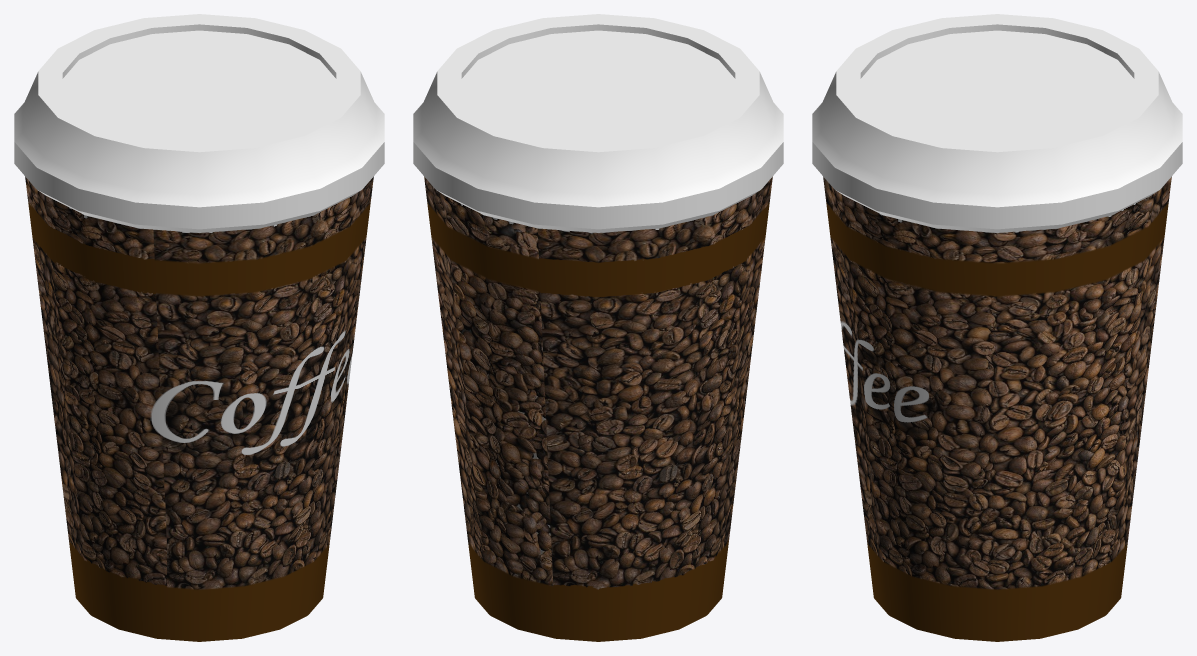
File: Coffee.FBX
3 renders of one model, left to right at view 1: azimuth 30°, elevation 25°; view 2: azimuth 150°, elevation 25°; view 3: azimuth 270°, elevation 25°, orthographic.
Visible parts, largest first — view 1: Coffee; view 2: Coffee; view 3: Coffee.
Part boxes in pixels (bbox=[...]): Coffee: bbox=[14, 14, 384, 641]; Coffee: bbox=[413, 14, 783, 641]; Coffee: bbox=[812, 14, 1182, 641].
Size of the model in its own units: 9.47 by 14.06 by 9.33.
Materials: 1 (1 with a texture image).
